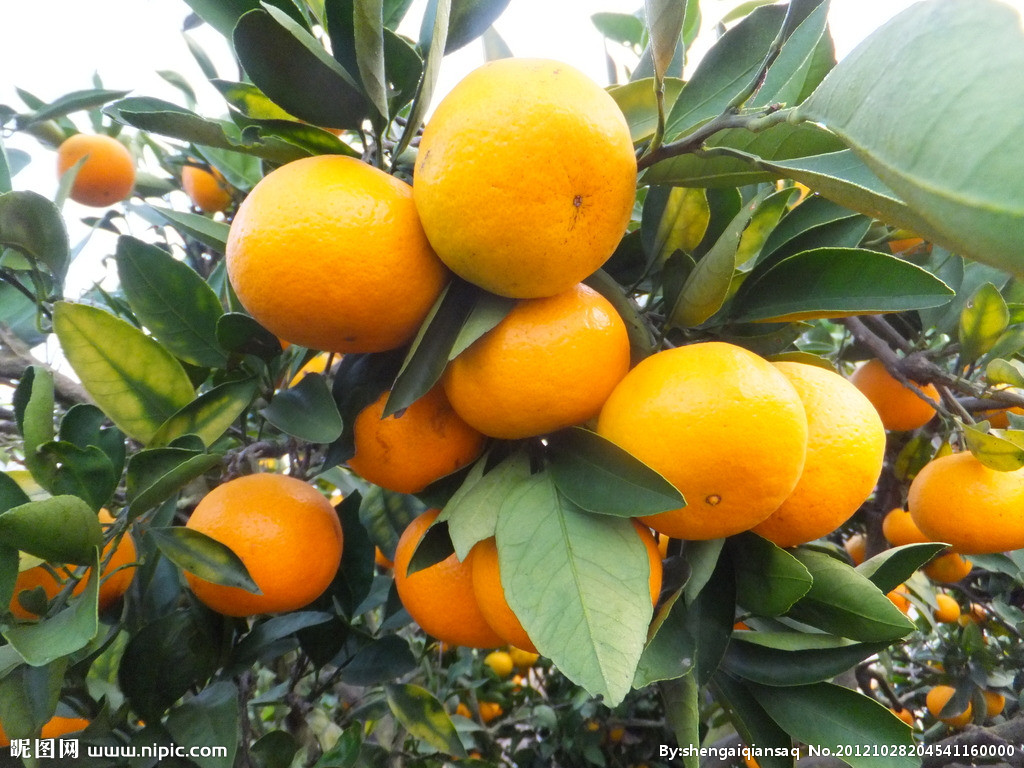orange: (416, 55, 637, 300), (226, 156, 453, 355), (592, 339, 808, 542), (475, 491, 664, 649), (445, 277, 631, 437), (749, 360, 885, 542), (327, 345, 495, 492), (179, 475, 348, 613), (394, 497, 513, 647), (9, 493, 136, 619), (907, 447, 1024, 551), (855, 355, 942, 437), (58, 130, 137, 204), (179, 139, 239, 207)
